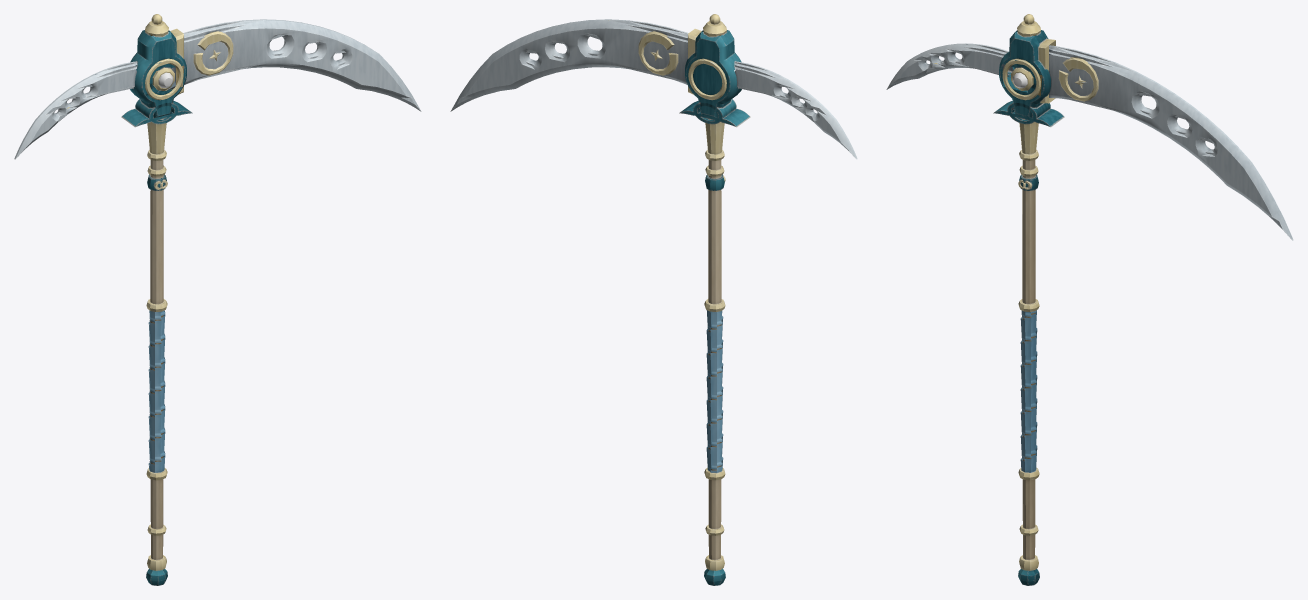
File: Riftreaper.fbx
3 views of the same model, side by side, from view 1: azimuth 30°, elevation 25°; view 2: azimuth 150°, elevation 25°; view 3: azimuth 330°, elevation 25° (orthographic).
Visible parts, largest first — view 1: Riftreaper_Body; view 2: Riftreaper_Body; view 3: Riftreaper_Body.
Boxes of the visible parts, box(x1,y1,x2,y2) form: Riftreaper_Body: box(14, 14, 421, 585); Riftreaper_Body: box(450, 14, 857, 585); Riftreaper_Body: box(886, 14, 1293, 585).
Bounding box in the file's own units: 4.53 × 6.07 × 0.38.
